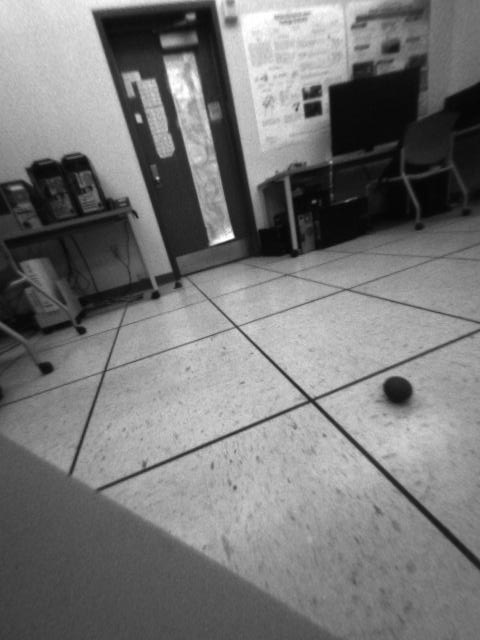dogtoy: (375, 369, 421, 411)
